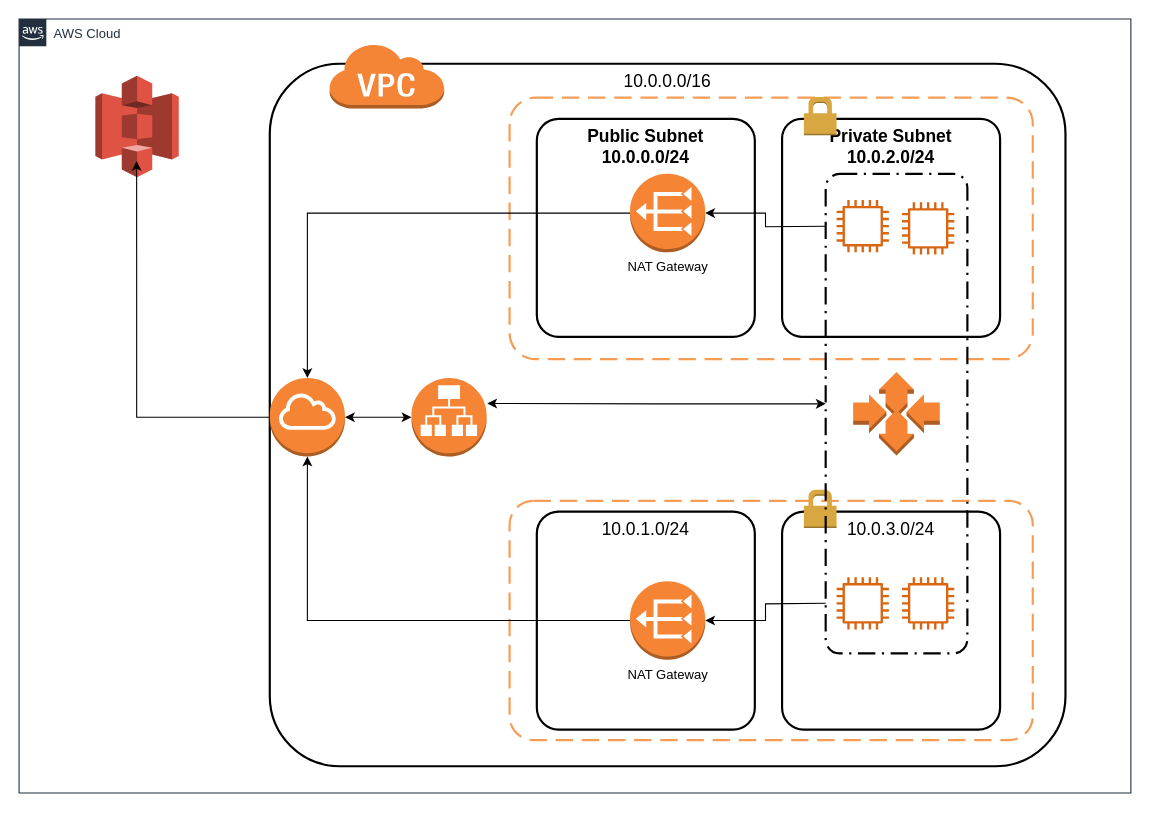
Image size: 1150x814. Some labels were removed from this diagram. The centre of each missing label's shape, as x and y in pixels:
"Application Load Balancer" belongs at (448,416).
"AutoScaling" belongs at (896,413).
"Internet Gateway" belongs at (307,416).
"S3 Bucket" belongs at (136,126).
